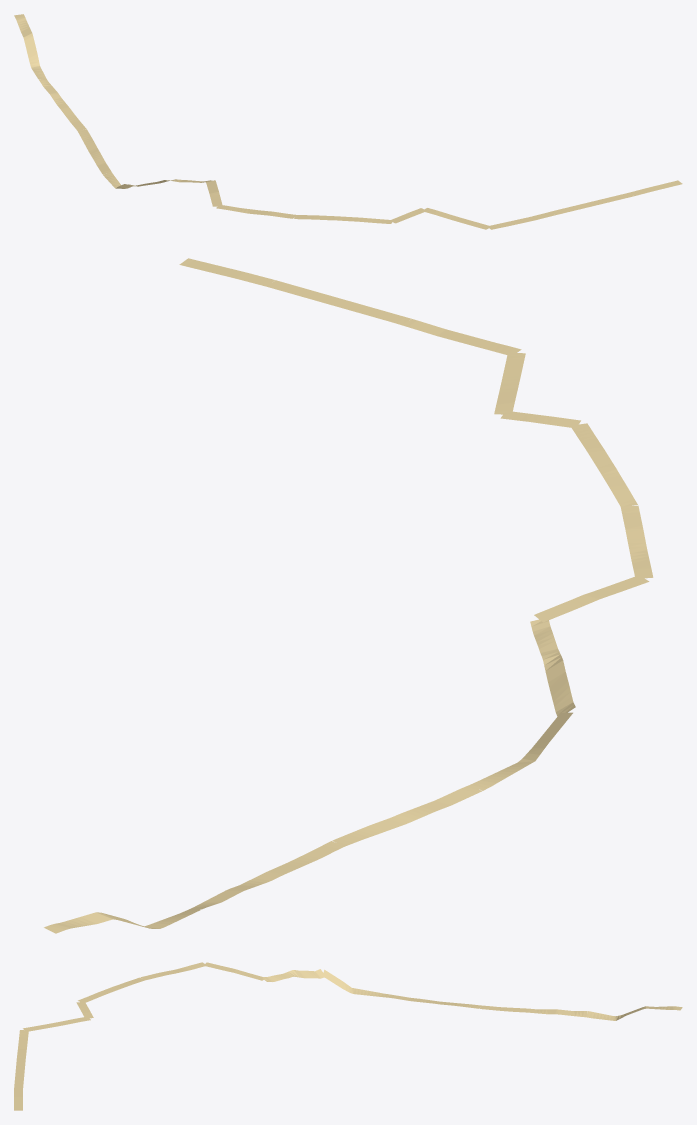
File: Trail_22.glb
The picture shows the model from 3 angles, top to bottom: view 1: azimuth 30°, elevation 25°; view 2: azimuth 150°, elevation 25°; view 3: azimuth 270°, elevation 25°; orthographic projection. The views are drawn at different scales.
Visible parts, largest first — view 1: Trail_22; view 2: Trail_22; view 3: Trail_22.
Part boxes in pixels (x1=…): Trail_22: x1=14, y1=14, x2=682, y2=229; Trail_22: x1=44, y1=258, x2=653, y2=933; Trail_22: x1=14, y1=962, x2=682, y2=1110.
Size of the model in its own units: 78.04 by 10.34 by 130.
